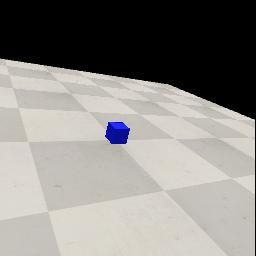box: (105, 122, 130, 144)
